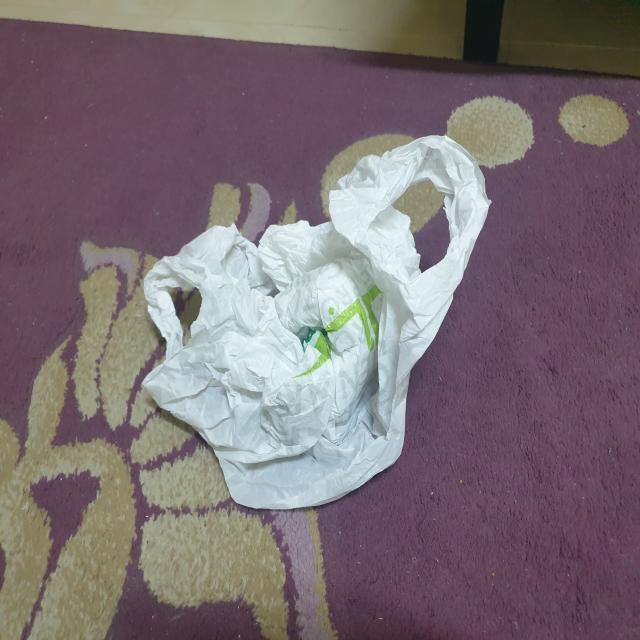Plastic_Bag: (122, 124, 498, 522)
